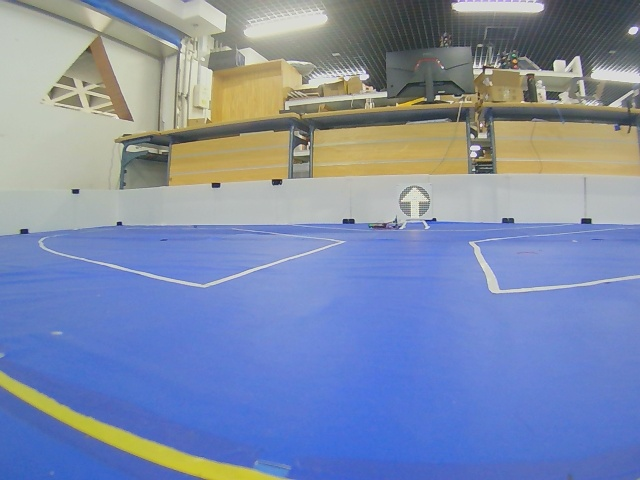straight_yellow: (399, 186, 430, 219)
